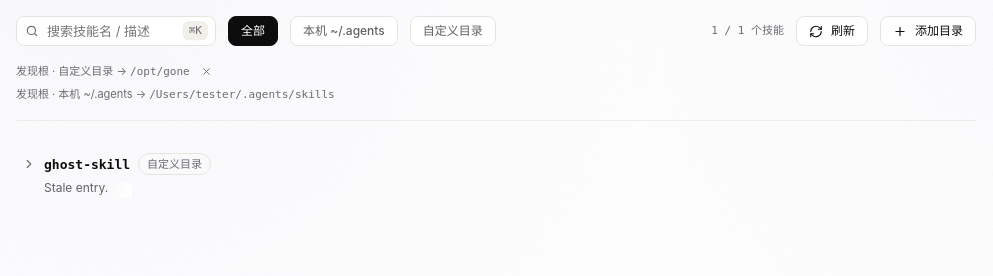
it: SkillsView › auto-refreshes the catalog when an expanded row 404s (stale TTL entry)
Click the text "ghost-skill".
click(87, 164)  # box [44,154,130,175]
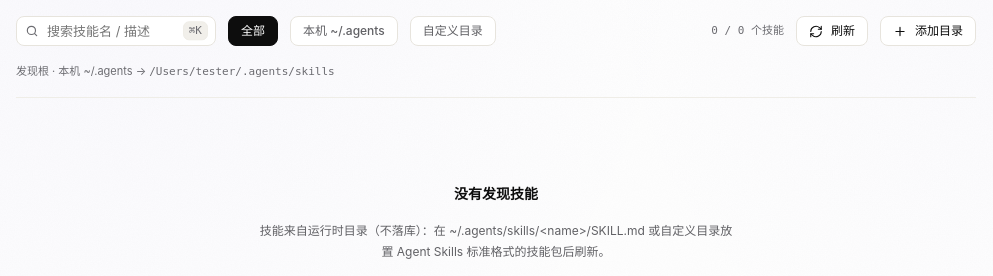
Now the button "ghost-skill" is gone
